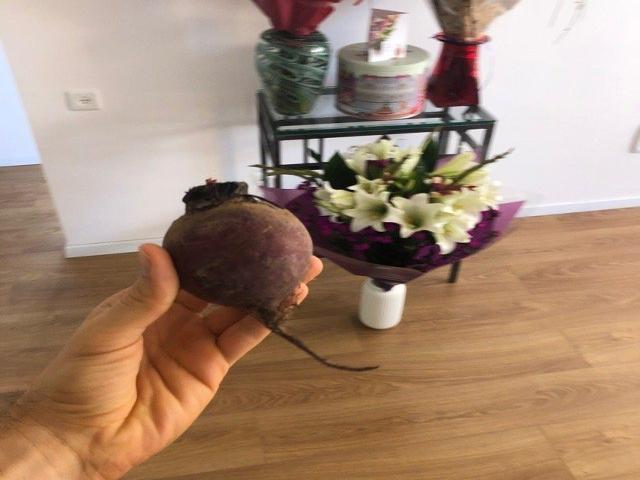beet: (163, 180, 383, 370)
